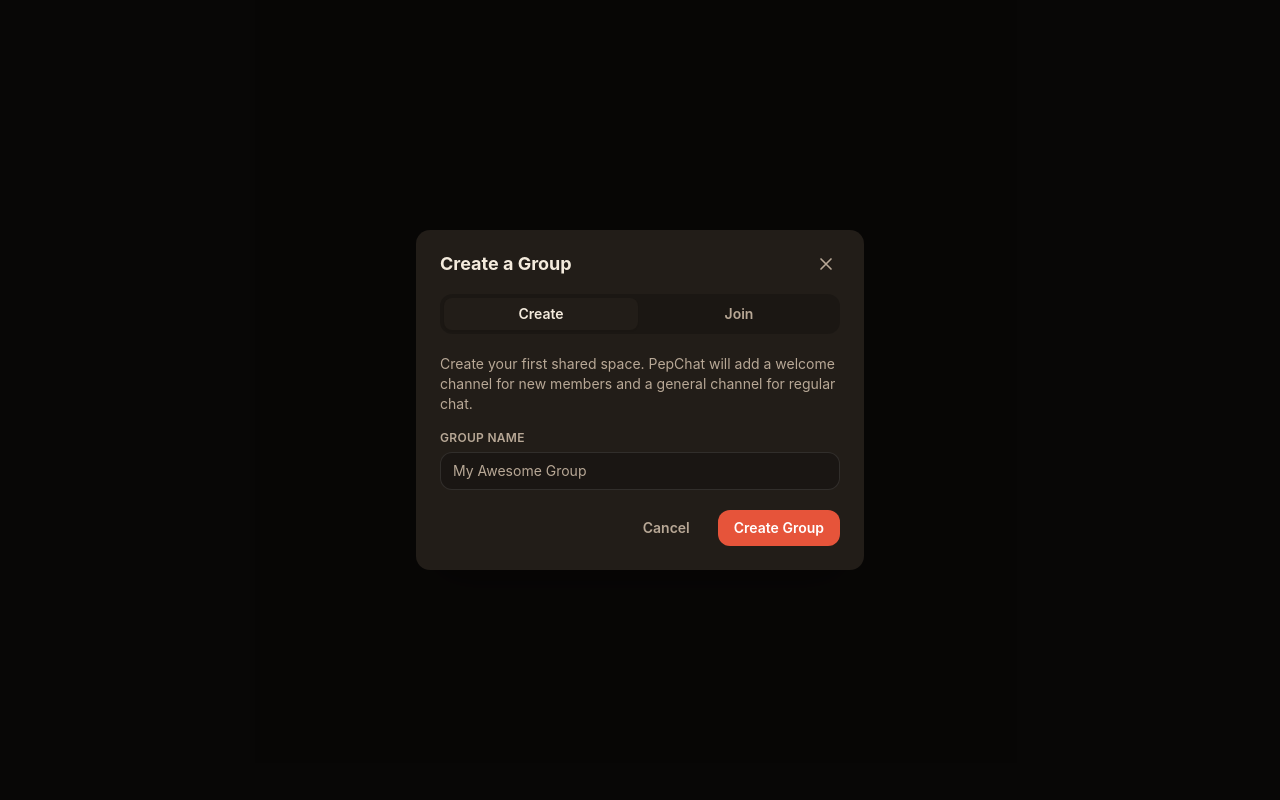
CreateGroupModal › shows server error from createGroup
Type "Bad" into the field labelled "Group Name". click: (640, 471)
box: [440, 452, 840, 490]
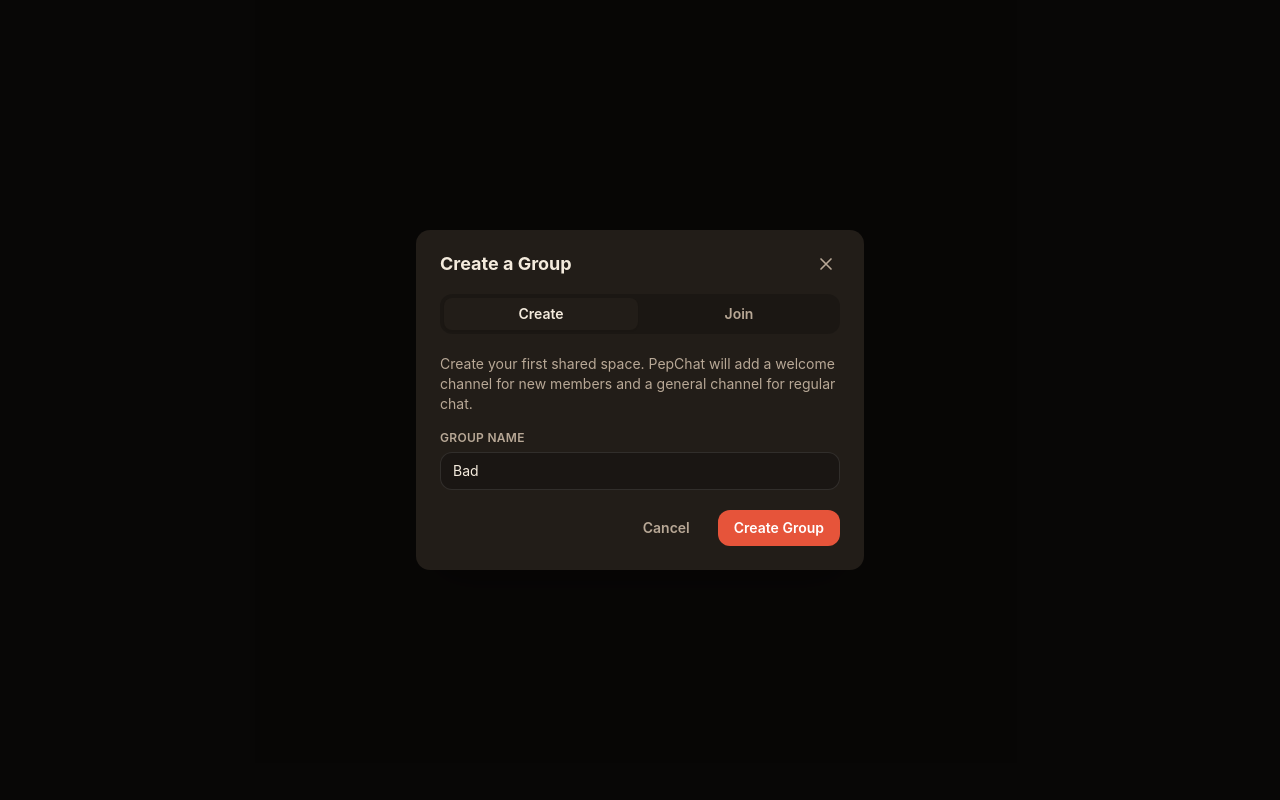
Submit the form, box [440, 430, 840, 546]
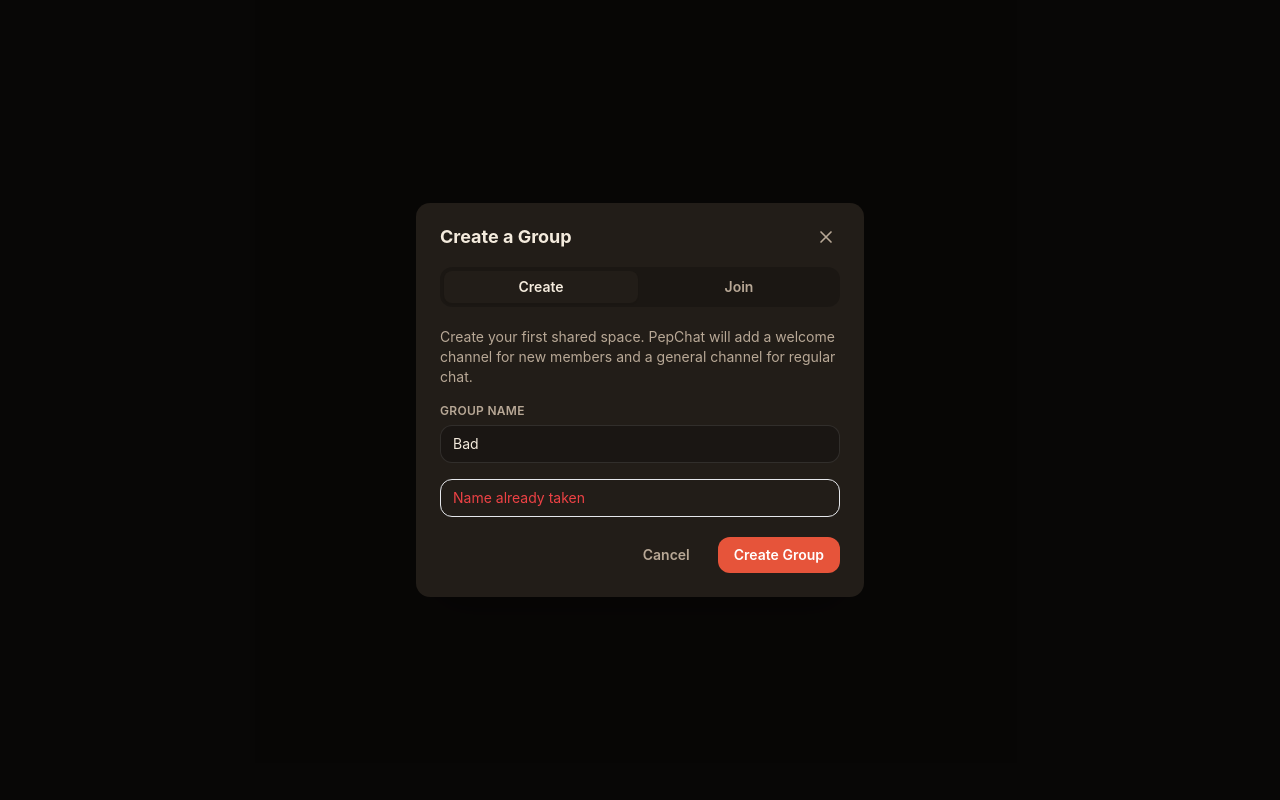
expect the text "Name already taken" is shown: met, box [440, 479, 840, 517]
